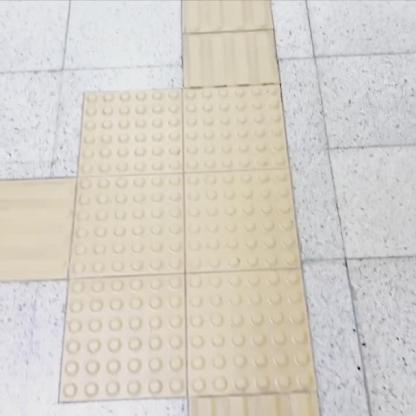podotacti: (51, 61, 328, 416), (186, 0, 280, 87)
